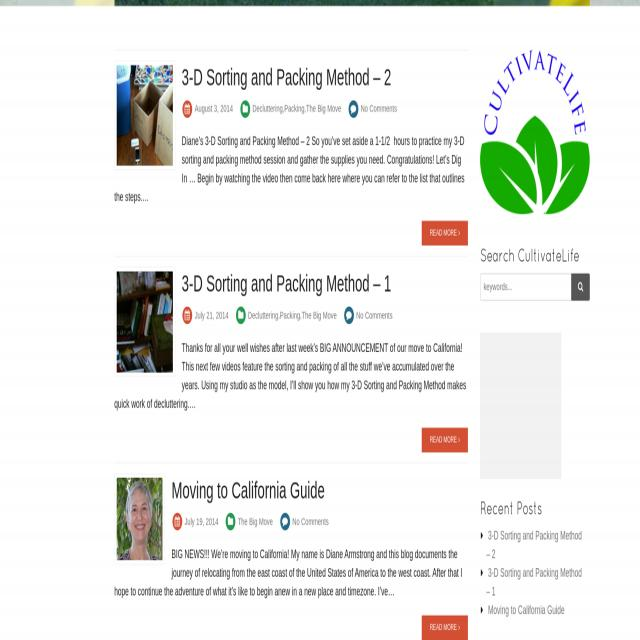button: (476, 25, 596, 229), (114, 267, 176, 377), (114, 61, 176, 170), (114, 473, 166, 565), (421, 615, 468, 640), (422, 221, 468, 246), (422, 428, 468, 452), (571, 273, 590, 300)
field: (480, 273, 571, 300)
